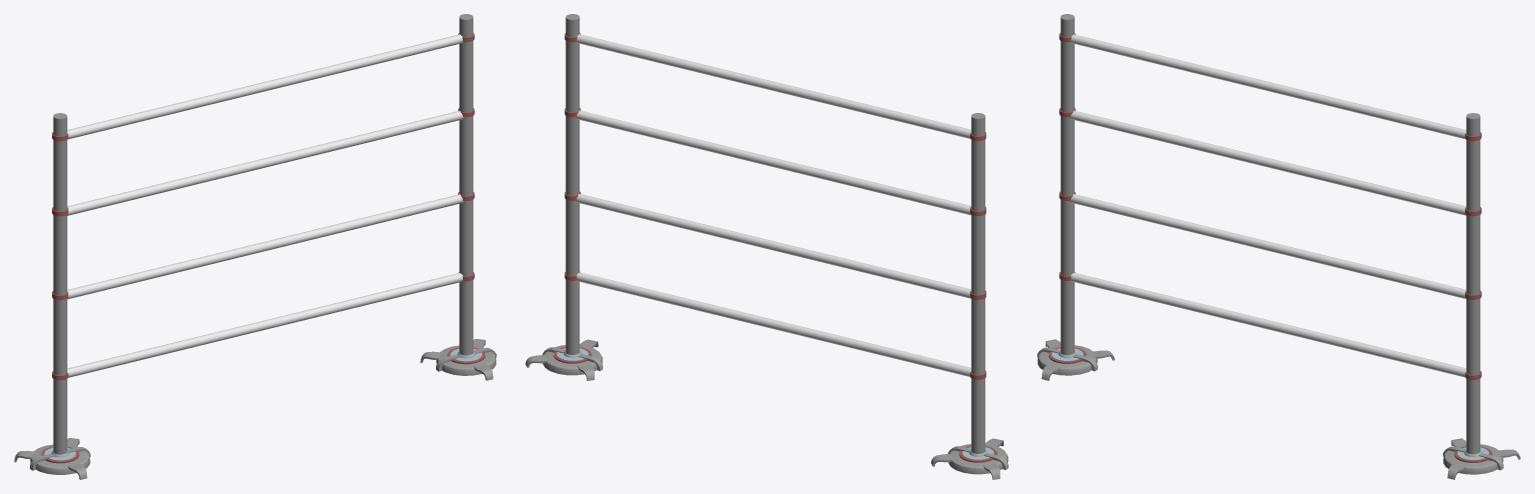
The picture shows the model from 3 angles, left to right: view 1: azimuth 30°, elevation 25°; view 2: azimuth 150°, elevation 25°; view 3: azimuth 330°, elevation 25°; orthographic projection.
Visible parts, largest first — view 1: group18_pasted__pCylinder5_keikoutou, group21_pasted__pCylinder1_poll_left, pasted__pCylinder1_poll_right, pasted__pTorus1_right_down, pasted__pasted__pTorus1_right_down, group15_pasted__group14_pasted__pasted__pCylinder4_poll_ring; view 2: group18_pasted__pCylinder5_keikoutou, group21_pasted__pCylinder1_poll_left, pasted__pCylinder1_poll_right, pasted__pTorus1_right_down, pasted__pasted__pTorus1_right_down, group15_pasted__group14_pasted__pasted__pCylinder4_poll_ring; view 3: group18_pasted__pCylinder5_keikoutou, pasted__pCylinder1_poll_right, group21_pasted__pCylinder1_poll_left, pasted__pTorus1_right_down, pasted__pasted__pTorus1_right_down, group15_pasted__group14_pasted__pasted__pCylinder4_poll_ring.
Boxes of the visible parts, box(x1,y1,x2,y2) form: group18_pasted__pCylinder5_keikoutou: box(67, 34, 464, 377); group21_pasted__pCylinder1_poll_left: box(53, 113, 67, 454); pasted__pCylinder1_poll_right: box(459, 14, 473, 355); pasted__pTorus1_right_down: box(420, 339, 496, 380); pasted__pasted__pTorus1_right_down: box(14, 438, 90, 479); group15_pasted__group14_pasted__pasted__pCylinder4_poll_ring: box(52, 33, 474, 380); group18_pasted__pCylinder5_keikoutou: box(575, 34, 971, 376); group21_pasted__pCylinder1_poll_left: box(971, 113, 985, 453); pasted__pCylinder1_poll_right: box(565, 14, 579, 354); pasted__pTorus1_right_down: box(525, 339, 602, 380); pasted__pasted__pTorus1_right_down: box(931, 438, 1008, 479); group15_pasted__group14_pasted__pasted__pCylinder4_poll_ring: box(564, 33, 986, 379); group18_pasted__pCylinder5_keikoutou: box(1069, 34, 1466, 377); pasted__pCylinder1_poll_right: box(1466, 113, 1480, 454); group21_pasted__pCylinder1_poll_left: box(1060, 14, 1074, 355); pasted__pTorus1_right_down: box(1443, 438, 1520, 479); pasted__pasted__pTorus1_right_down: box(1037, 339, 1114, 380); group15_pasted__group14_pasted__pasted__pCylinder4_poll_ring: box(1059, 33, 1481, 379).
Bounding box in the file's own units: 22.25 × 15.57 × 3.25.
